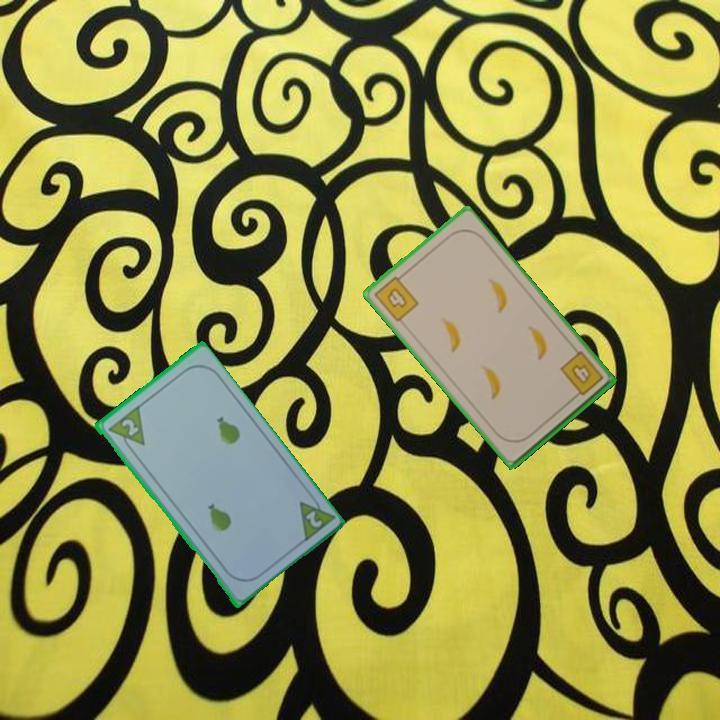2p: (295, 489, 336, 545), (117, 415, 141, 439)
4b: (370, 270, 421, 325), (556, 347, 606, 402)
